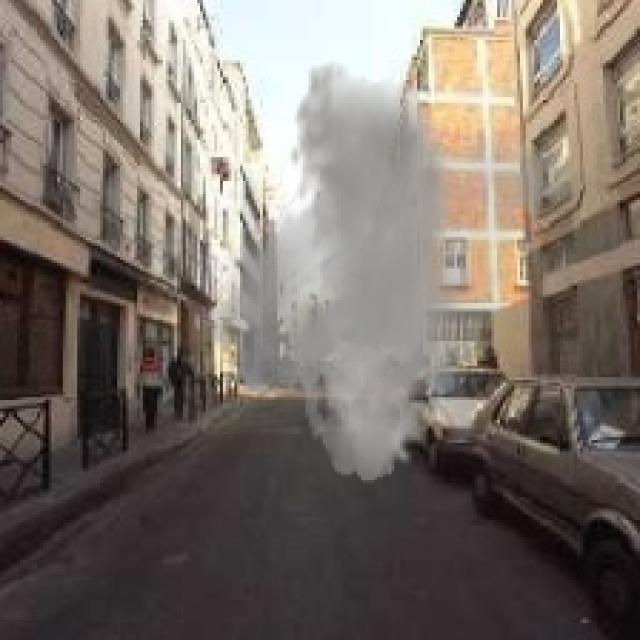Smoke: (192, 60, 574, 483)
